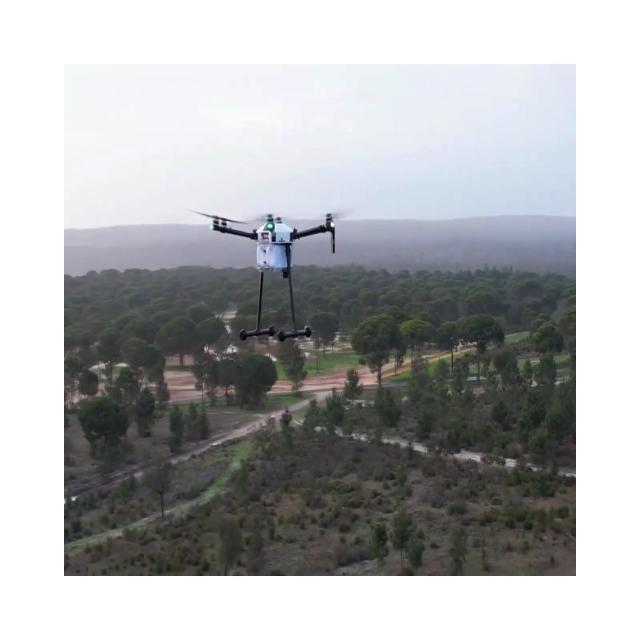drone: (188, 208, 350, 342)
